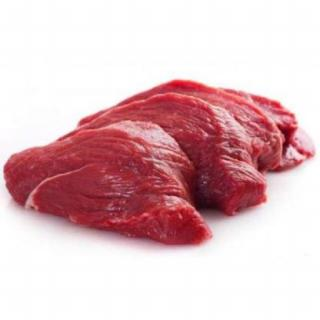Daging Sapi: (7, 127, 214, 247)
